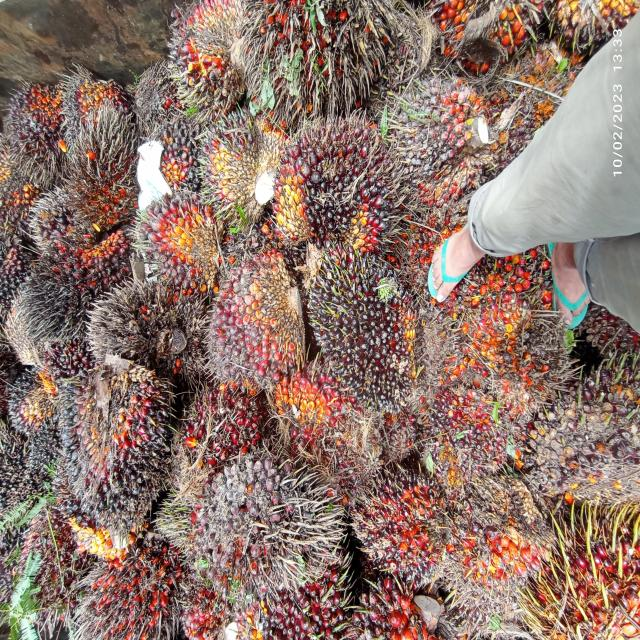fraksi 00: (190, 452, 337, 608), (265, 113, 414, 253), (56, 345, 170, 520), (305, 246, 418, 418), (408, 75, 478, 173), (5, 82, 60, 166), (154, 116, 206, 196), (8, 369, 53, 433), (21, 410, 57, 474)
fraksi 1: (203, 243, 311, 402), (356, 462, 458, 584), (185, 375, 267, 490), (131, 195, 219, 300), (432, 383, 515, 478), (43, 226, 131, 307)
fraksi 3: (257, 352, 368, 458), (10, 495, 82, 616)
fraksi 4: (454, 242, 554, 399), (448, 481, 565, 602), (60, 102, 142, 228), (81, 551, 183, 640)
